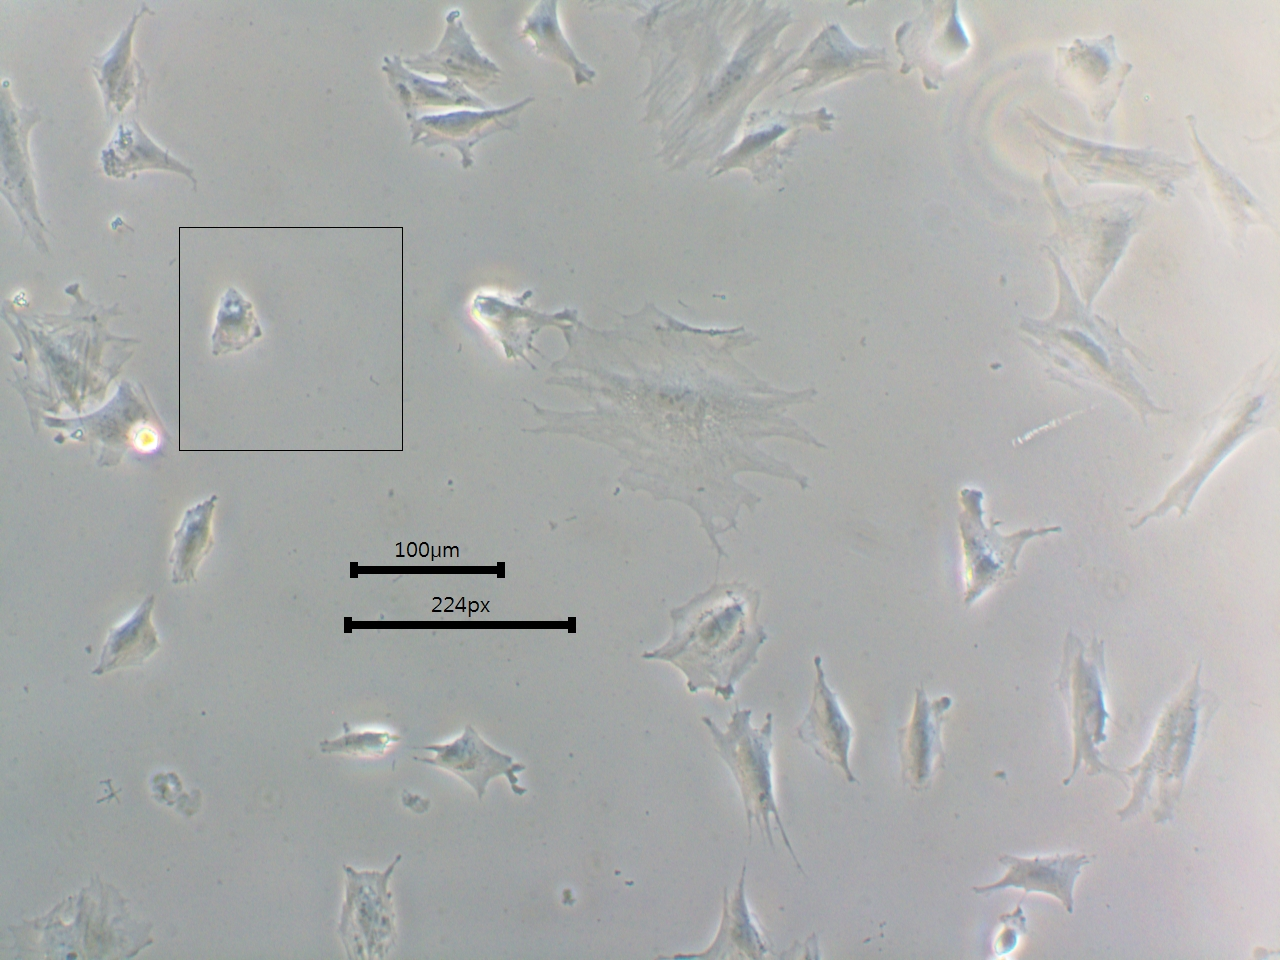large-spread: (536, 286, 840, 541)
medium-polygonal: (1122, 659, 1231, 829), (698, 705, 787, 866), (1051, 633, 1120, 800)
medium-spread: (646, 577, 770, 705), (949, 481, 1059, 608)
small-polygonal: (794, 651, 862, 796), (464, 284, 551, 363), (891, 690, 953, 793), (168, 494, 217, 595), (312, 722, 402, 766)
small-spread: (1052, 29, 1144, 129), (972, 846, 1098, 912), (92, 593, 159, 687)
